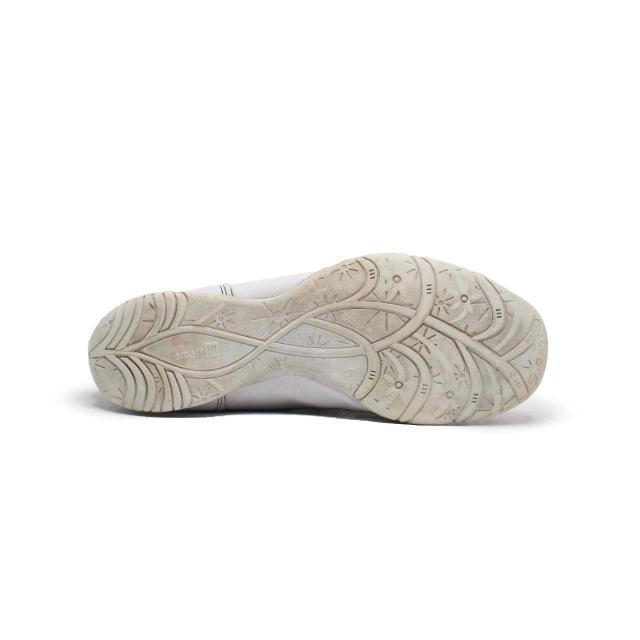outersole: (89, 255, 545, 424)
